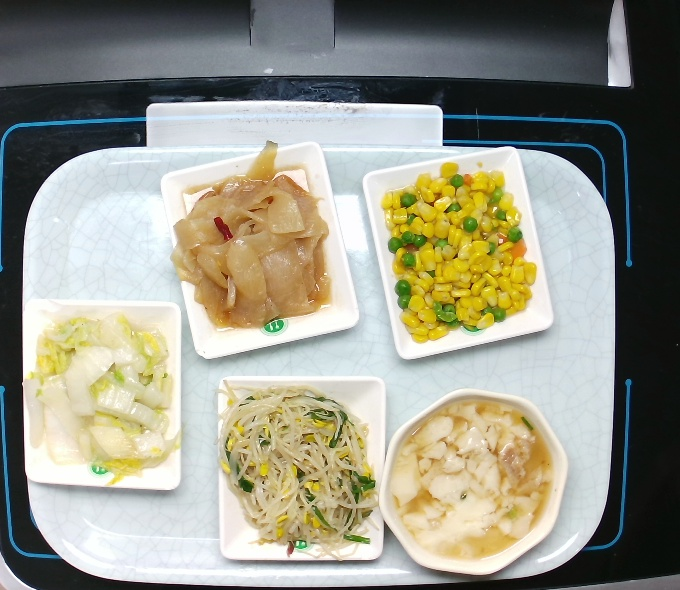wcq-DaBaiCai: (18, 309, 192, 492)
wcq-DongGua: (165, 135, 347, 333)
wcq-DouYa: (208, 374, 385, 564)
wcq-ShuiZhengDan: (383, 394, 559, 568)
wcq-TianMiTianDou: (378, 158, 541, 346)
